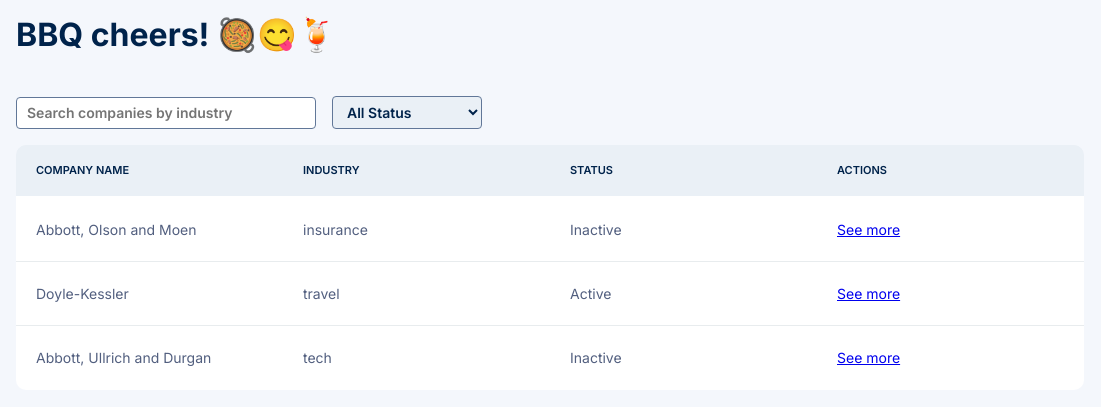
Scenario: Home page › when filtering data › should filters data based on input
expect the text "Abbott, Olson and Moen" is shown: met, box [16, 198, 283, 262]
expect the text "Doyle-Kessler" is shown: met, box [16, 262, 283, 326]
Note: Type in the search input
Type "tech" into the search field.
click(166, 113); type("tech")  # box [16, 97, 316, 129]
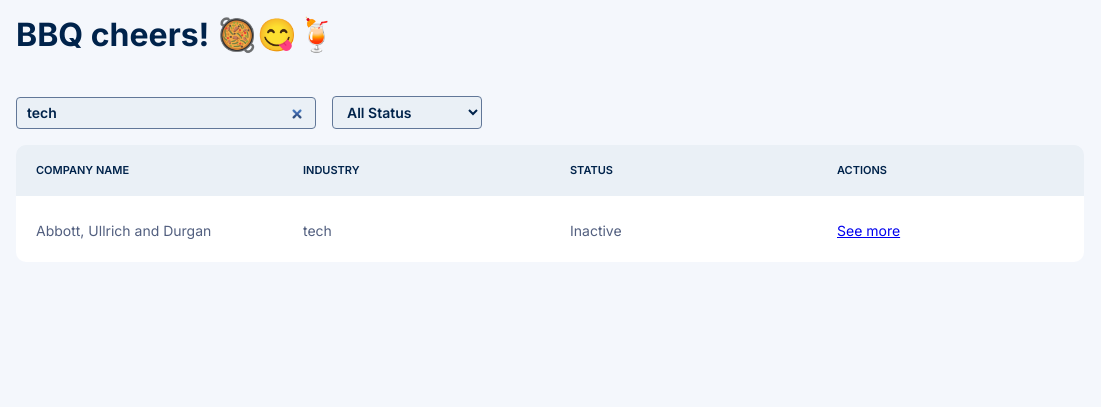
expect the text "Abbott, Ullrich and Durgan" is shown: met, box [16, 198, 283, 262]
expect the text "Abbott, Olson and Moen" is gone: met
expect the text "Doyle-Kessler" is gone: met
